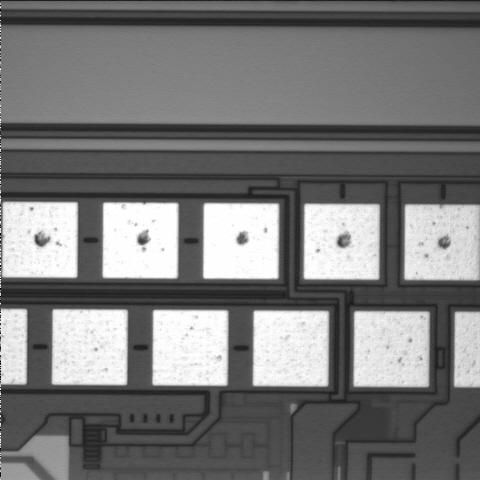pad: (102, 202, 178, 279), (2, 202, 78, 278), (203, 203, 279, 279), (304, 204, 380, 280), (52, 309, 128, 385), (152, 310, 228, 386), (253, 311, 329, 386), (354, 311, 429, 387)
